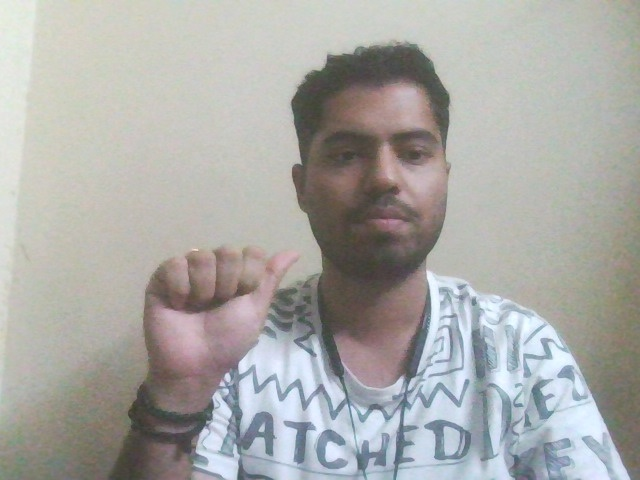A: (120, 233, 311, 388)
